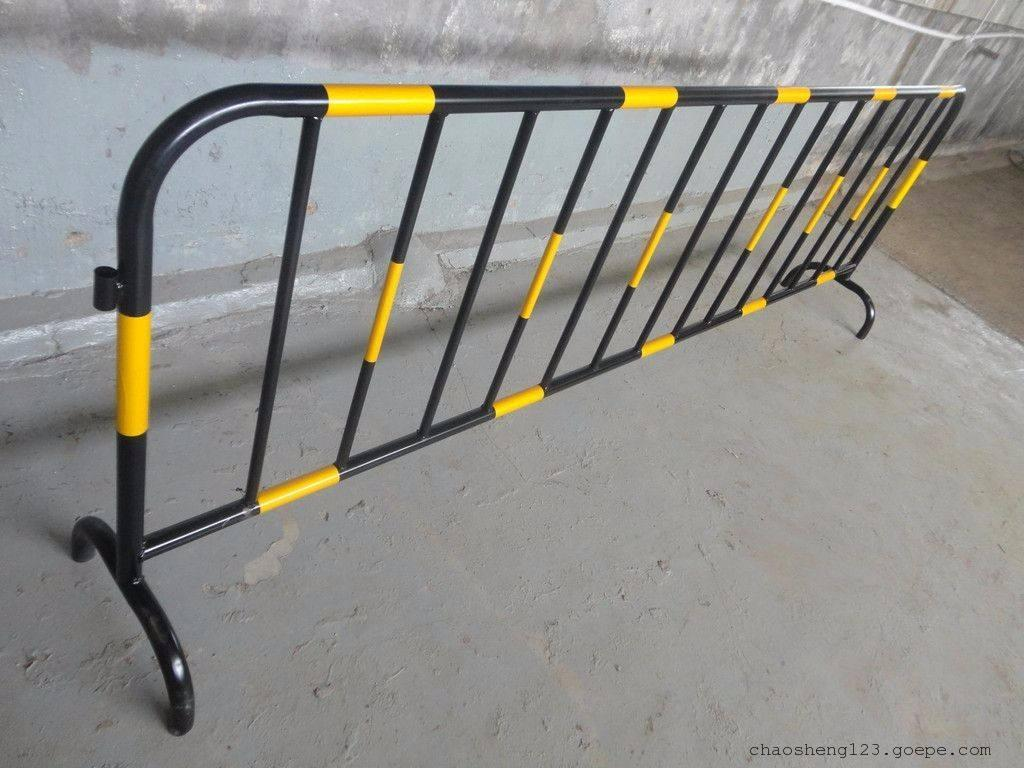sign: (90, 32, 968, 581)
